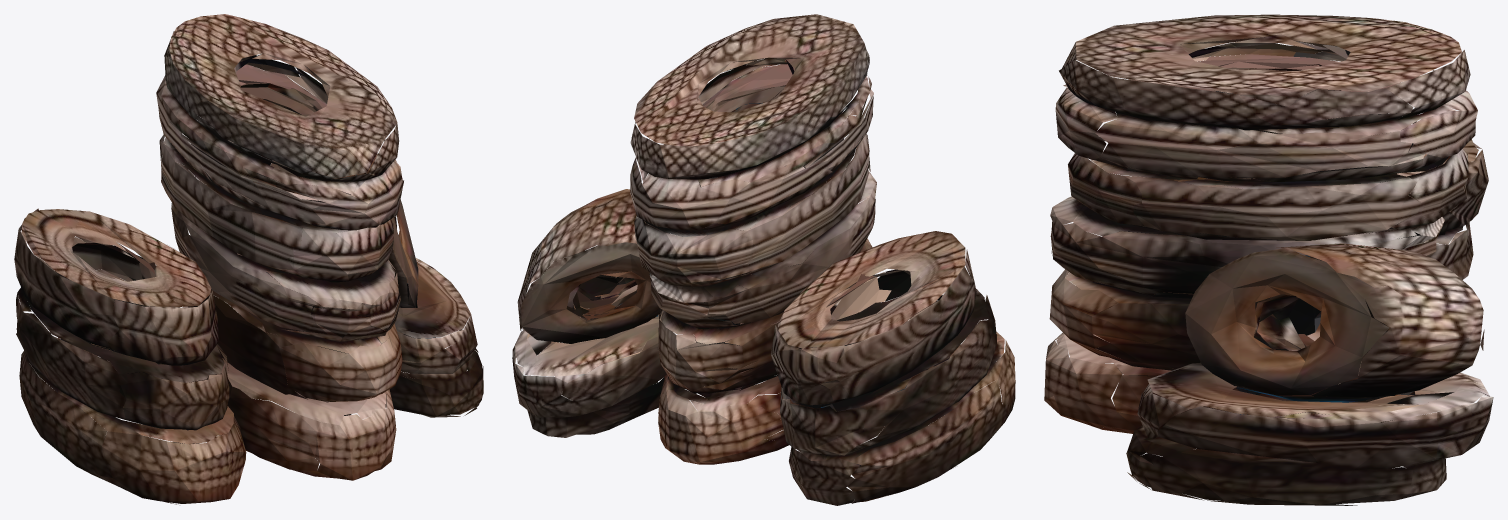
The model's file is tire-stack.glb.
The picture shows the model from 3 angles, left to right: view 1: azimuth 30°, elevation 25°; view 2: azimuth 150°, elevation 25°; view 3: azimuth 270°, elevation 25°; orthographic projection. The views are drawn at different scales.
Parts seen in each view (by area): view 1: tmpwc_gk8pz.ply; view 2: tmpwc_gk8pz.ply; view 3: tmpwc_gk8pz.ply.
Boxes of the visible parts, left/top/right/bottom form: tmpwc_gk8pz.ply: left=14, top=14, right=483, bottom=504; tmpwc_gk8pz.ply: left=512, top=14, right=1015, bottom=505; tmpwc_gk8pz.ply: left=1044, top=14, right=1493, bottom=505.
Size of the model in its own units: 2 by 1.6 by 1.75.
Materials: 1 (1 with a texture image).
